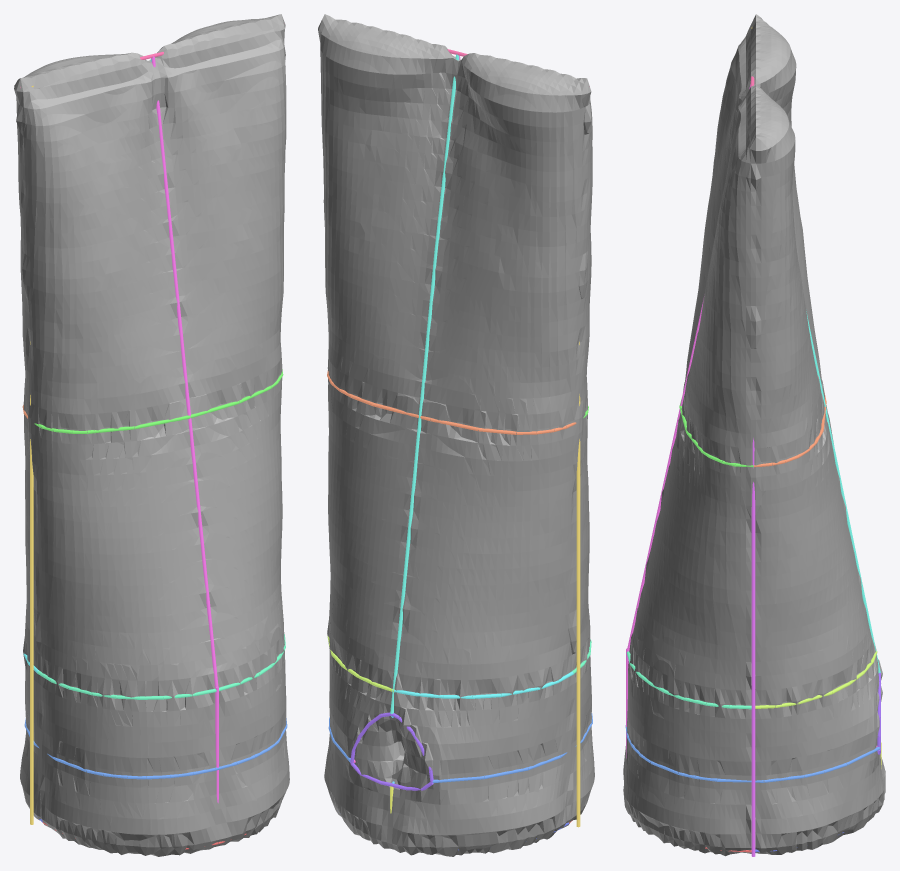
The model's file is t2f_toothpaste.gltf.
3 renders of one model, left to right at view 1: azimuth 30°, elevation 25°; view 2: azimuth 150°, elevation 25°; view 3: azimuth 270°, elevation 25°, orthographic. The views are drawn at different scales.
Bounding box in the file's own units: 0.3426 × 0.9184 × 0.2982.
